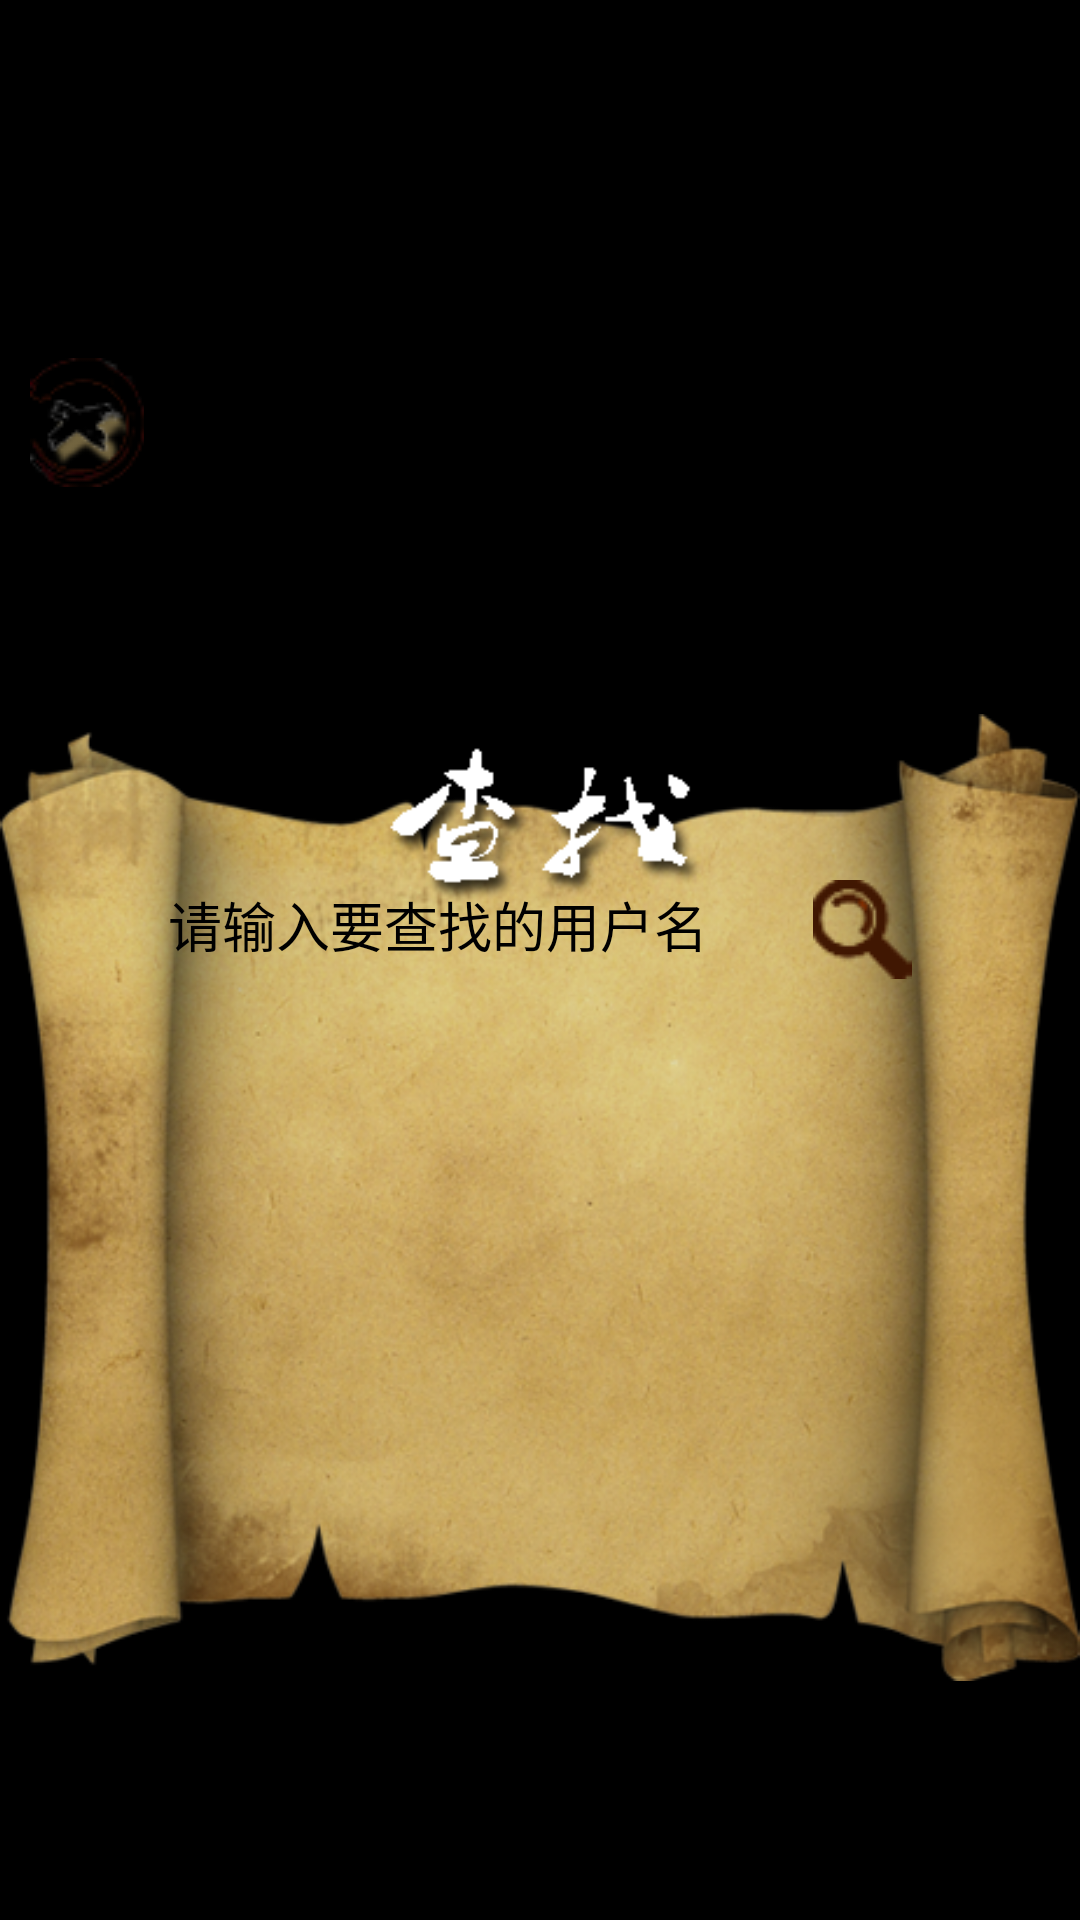

Locate icon controls on the screen. Image size 1080x1920, boxes as BBox(x1, y1, x2, y2).
closewin: BBox(30, 358, 144, 487)
